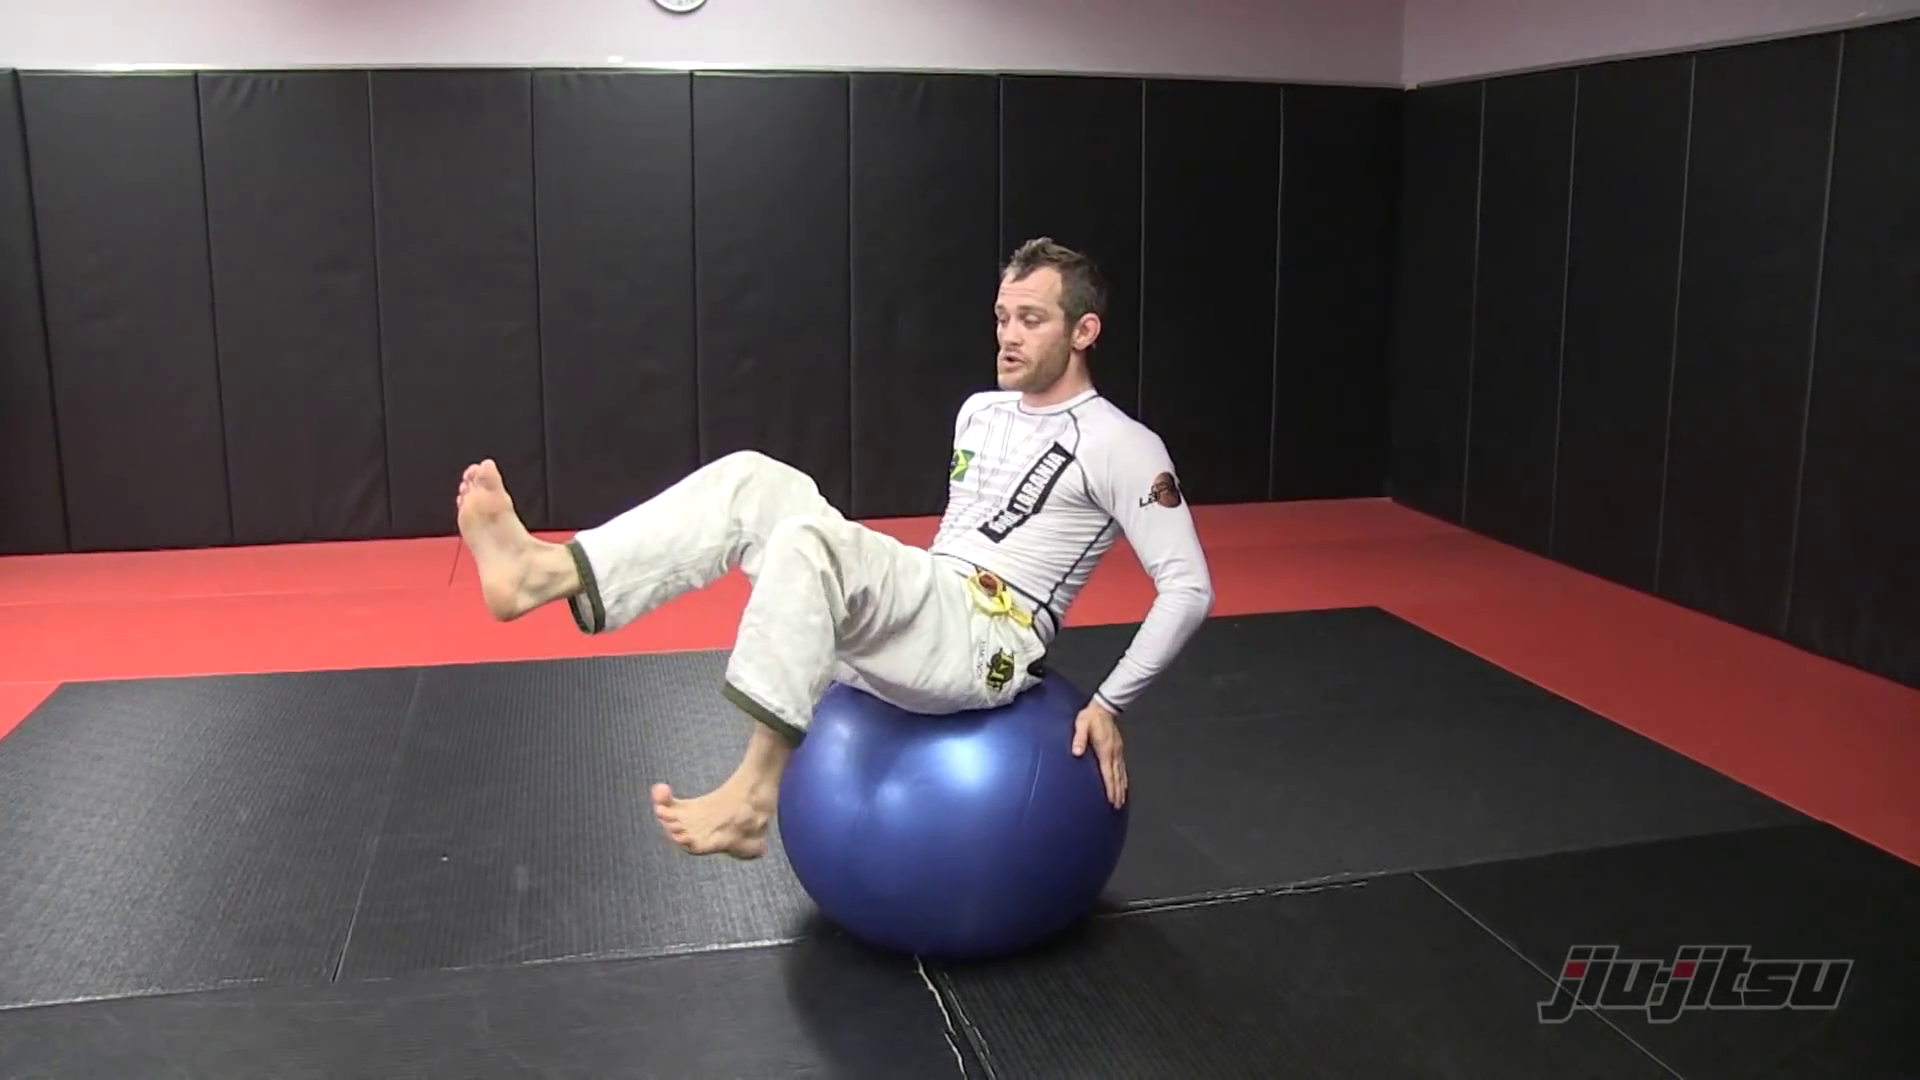yogaball: (757, 632, 1164, 981)
